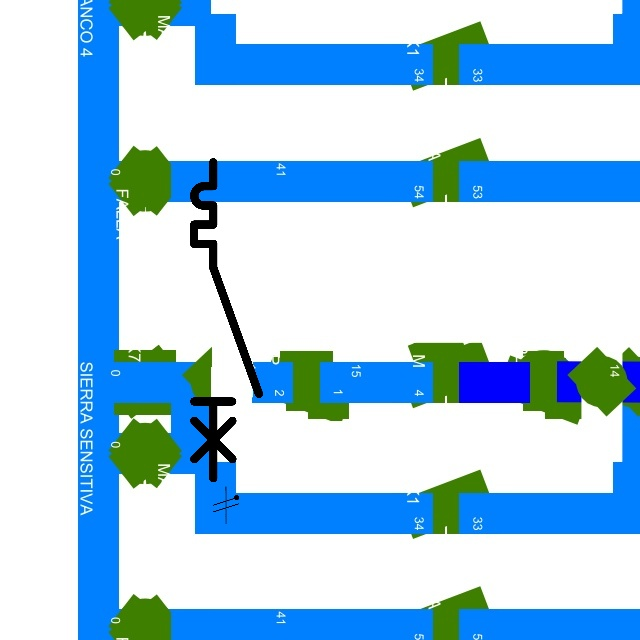interruptor_termomagnetico: (186, 154, 267, 487)
